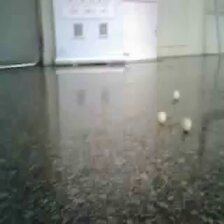w: (181, 118, 192, 132), (158, 112, 167, 123), (172, 90, 181, 99)
